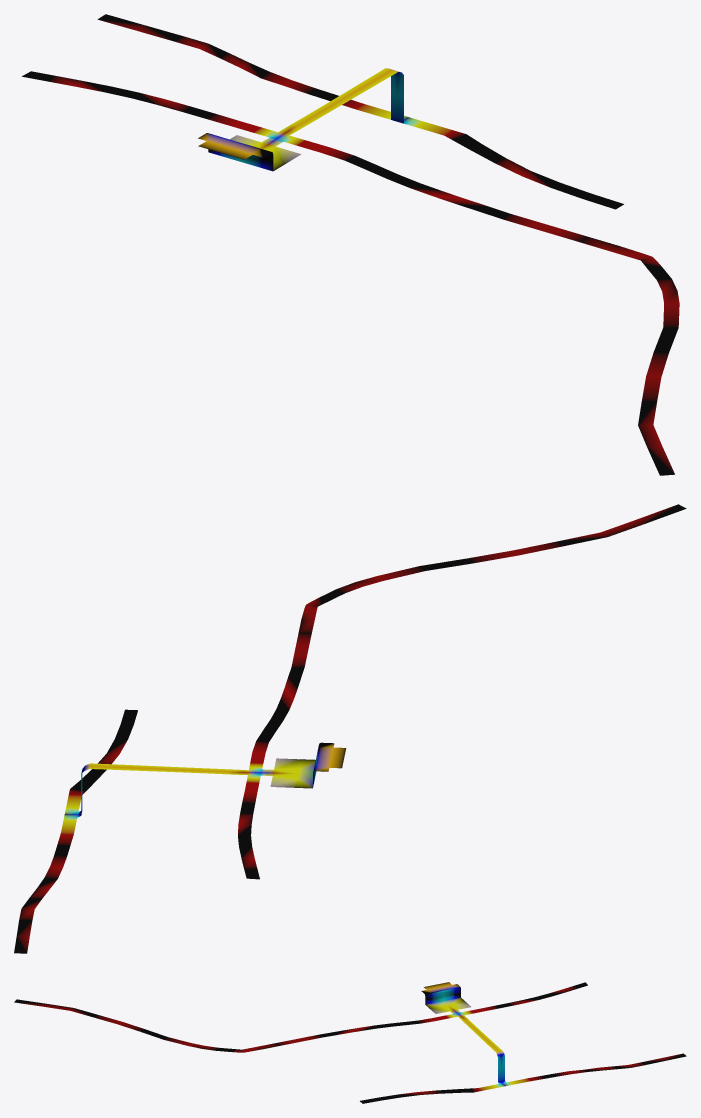
3 views of the same model, one above another, from view 1: azimuth 30°, elevation 25°; view 2: azimuth 150°, elevation 25°; view 3: azimuth 270°, elevation 25° (orthographic). The views are drawn at different scales.
Parts seen in each view (by area): view 1: G:\FFXIV-MapTools\exports\y6f1\bg\ex5\02_ykt_y6\fld\y6f1\bgp; view 2: G:\FFXIV-MapTools\exports\y6f1\bg\ex5\02_ykt_y6\fld\y6f1\bgp; view 3: G:\FFXIV-MapTools\exports\y6f1\bg\ex5\02_ykt_y6\fld\y6f1\bgp.
Part boxes in pixels (x1,y1,x2,y2): G:\FFXIV-MapTools\exports\y6f1\bg\ex5\02_ykt_y6\fld\y6f1\bgp: [22, 14, 679, 475]; G:\FFXIV-MapTools\exports\y6f1\bg\ex5\02_ykt_y6\fld\y6f1\bgp: [14, 504, 686, 953]; G:\FFXIV-MapTools\exports\y6f1\bg\ex5\02_ykt_y6\fld\y6f1\bgp: [14, 982, 686, 1103].
Size of the model in its own units: 28.34 by 5.62 by 86.81.
